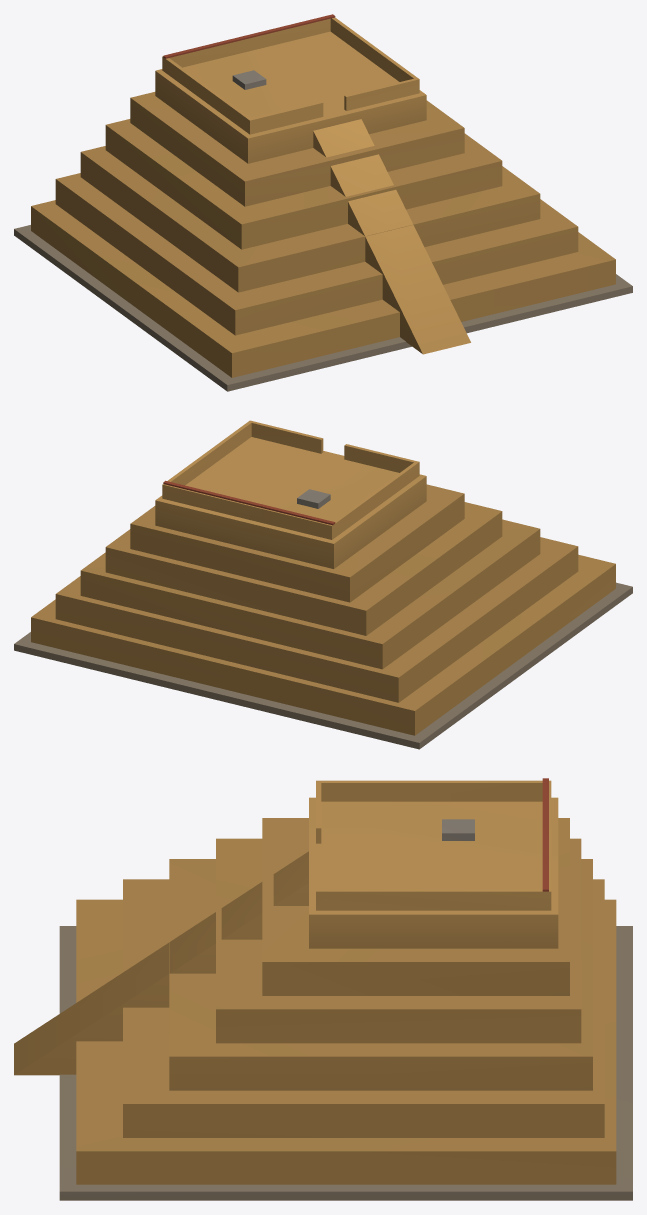
Rendered from caral_pyramid_mayor_lod1.glb.
The picture shows the model from 3 angles, top to bottom: view 1: azimuth 30°, elevation 25°; view 2: azimuth 150°, elevation 25°; view 3: azimuth 270°, elevation 25°; orthographic projection. The views are drawn at different scales.
Parts seen in each view (by area): view 1: GEO-Arch_pyramid_mayor_LOD1; view 2: GEO-Arch_pyramid_mayor_LOD1; view 3: GEO-Arch_pyramid_mayor_LOD1.
Part boxes in pixels (<box>): GEO-Arch_pyramid_mayor_LOD1: <box>14,14,632,391</box>; GEO-Arch_pyramid_mayor_LOD1: <box>14,420,632,749</box>; GEO-Arch_pyramid_mayor_LOD1: <box>14,778,632,1200</box>.
Bounding box in the file's own units: 45.4 × 18.61 × 44.7.
